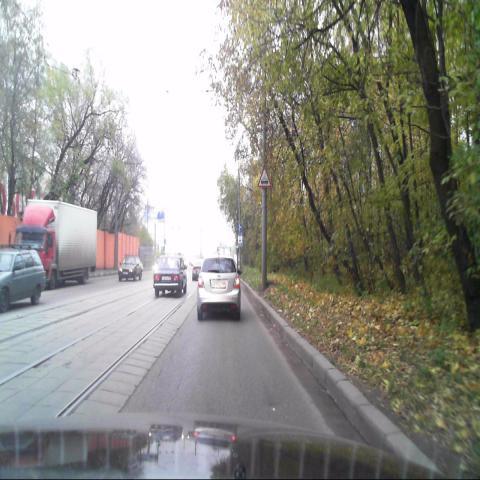1_5: (258, 167, 271, 188)
